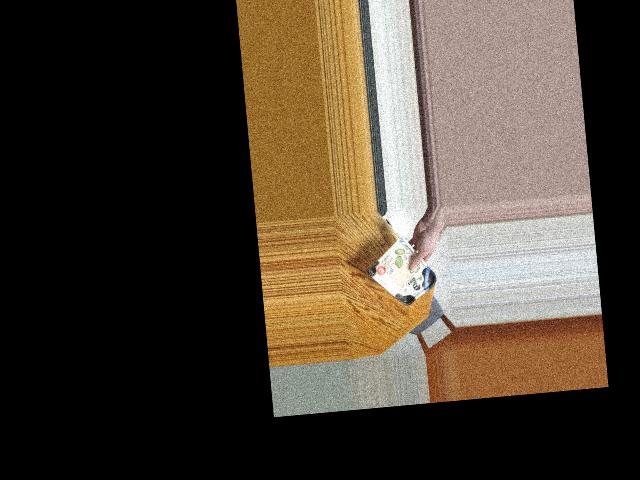cheese: (373, 246, 433, 308)
